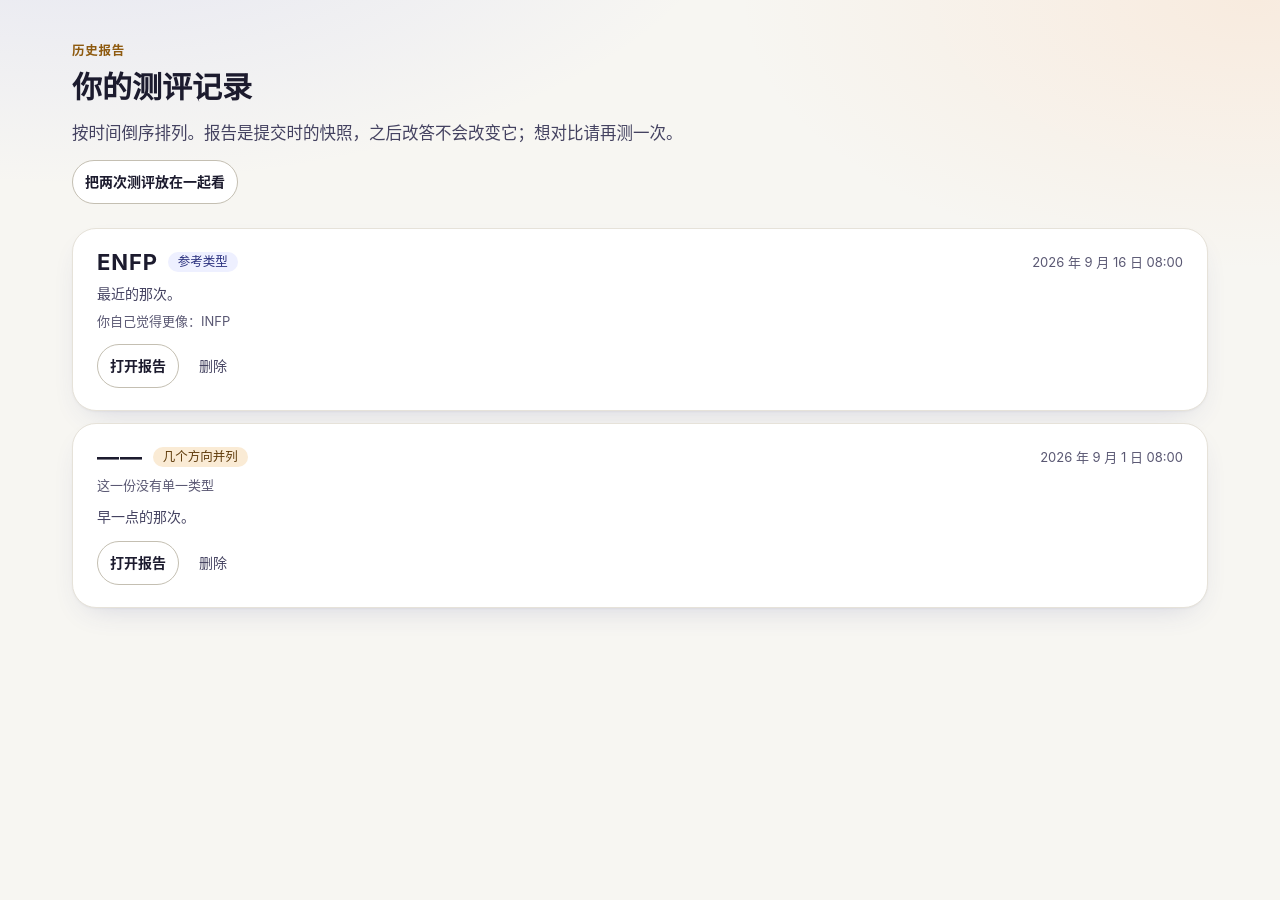
Scenario: 报告页：历史列表 › 倒序显示日期与状态，能进详情，能删除
This screenshot has width=1280, height=900.
Expected: the element that starts with "历史报告" is shown, 72,40 -> 1208,608
Expected: the list item "ENFP 参考类型 2026 年 9 月 16 日 08:00 最近的那次。 你自己觉得更像：INFP 打开报告 删除" is shown, 72,228 -> 1208,411
// 删除必须先确认：这里只断言"弹窗出现了"，真正的删除另有一条测试
Click the button "删除" below "几个方向并列": (213,563) 187,541 -> 239,585
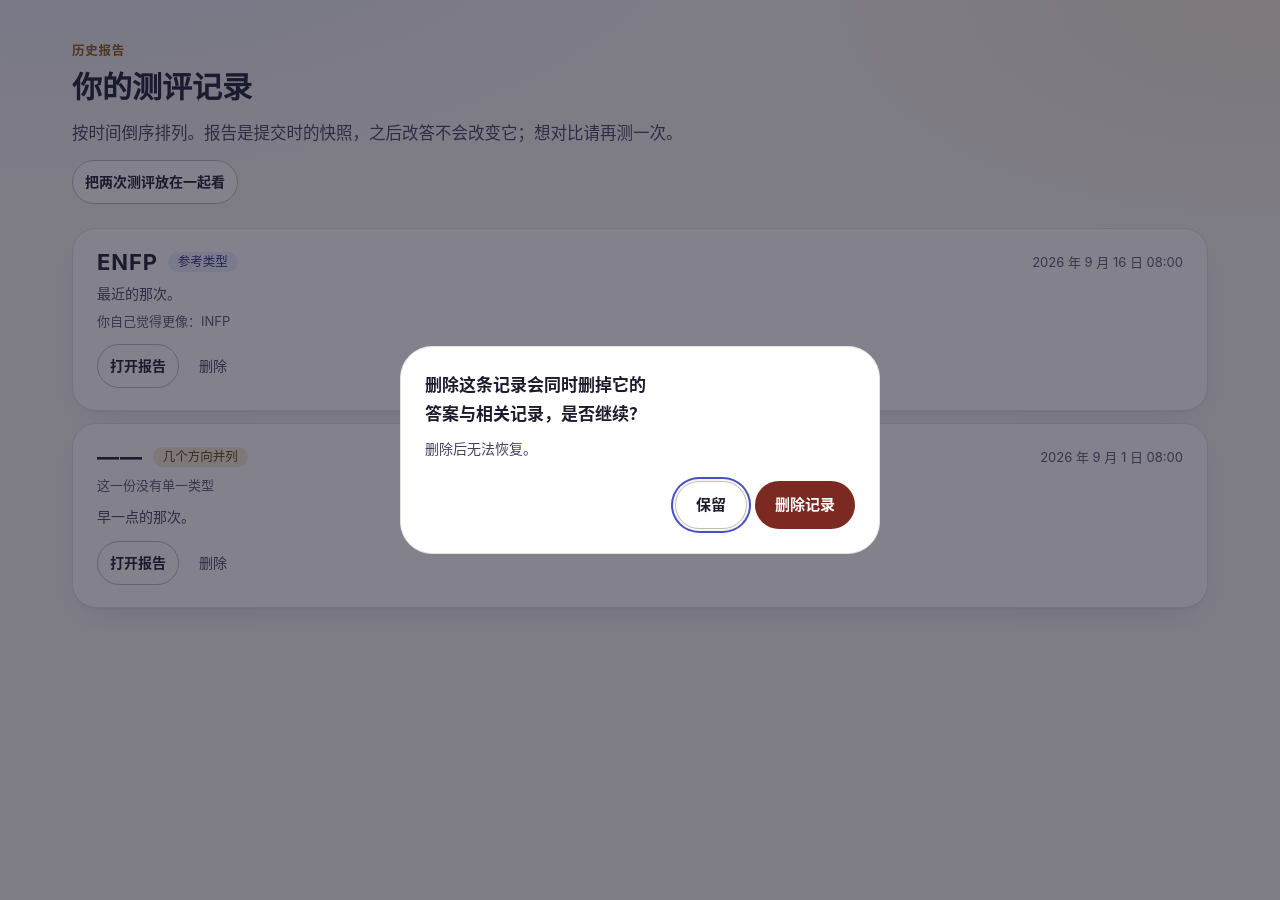
Expected: the text "删除这条记录会同时删掉它的答案与相关记录" is shown, 425,375 -> 646,424
Expected: the text "保留" is shown, 675,481 -> 747,529
